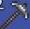pickaxe: (1, 1, 30, 29)
